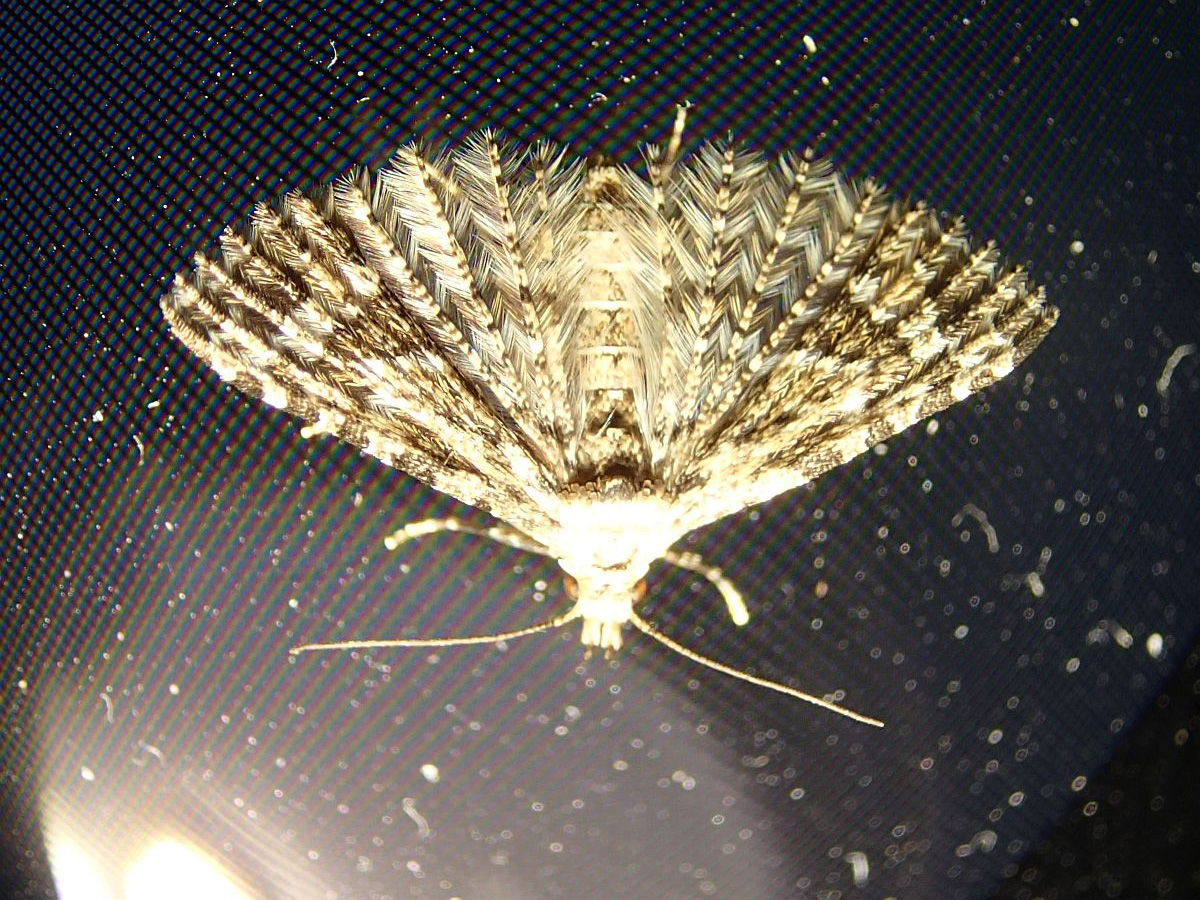Alucitidae: (152, 82, 1070, 741)
moth: (154, 84, 1072, 743)
